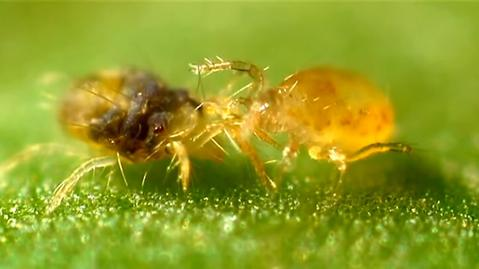Mites: (212, 26, 426, 215), (73, 66, 202, 184)
